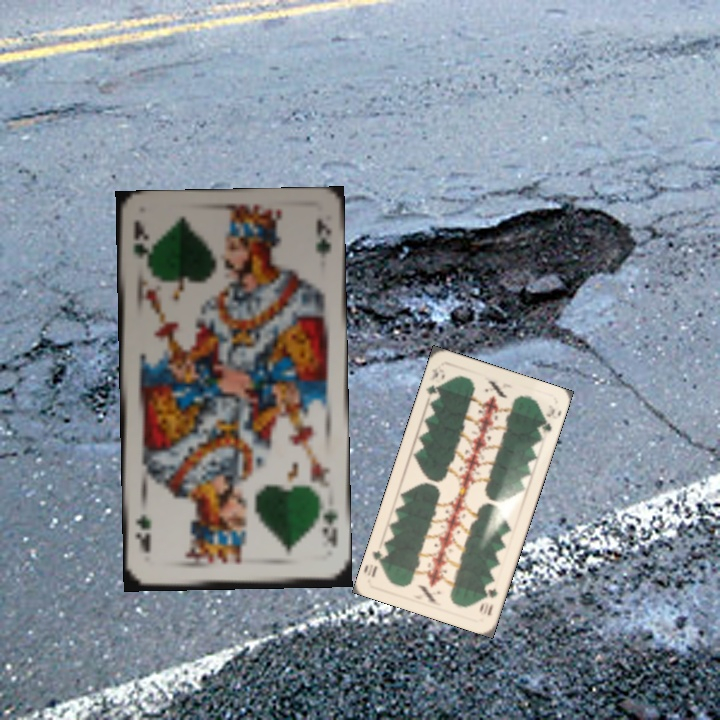G10: (422, 365, 444, 404), (476, 584, 500, 618)
GK: (129, 216, 151, 271), (317, 504, 341, 549)
